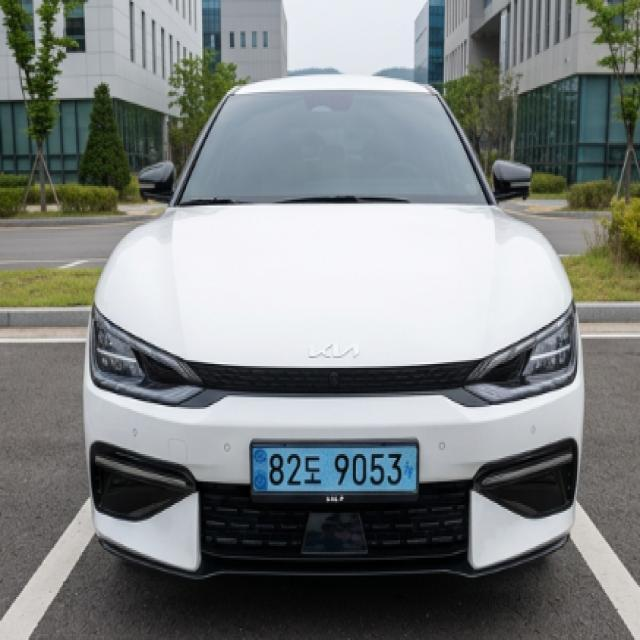car: (239, 431, 436, 524)
carev: (251, 440, 268, 497), (400, 444, 419, 494)
